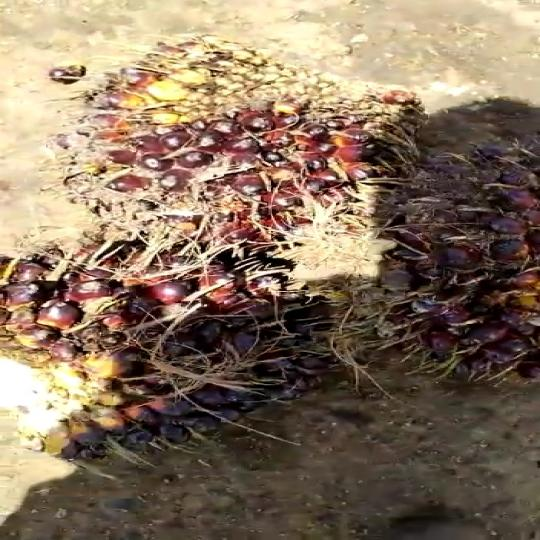kurang masak: (0, 235, 332, 481), (93, 22, 410, 249), (362, 153, 540, 402)
